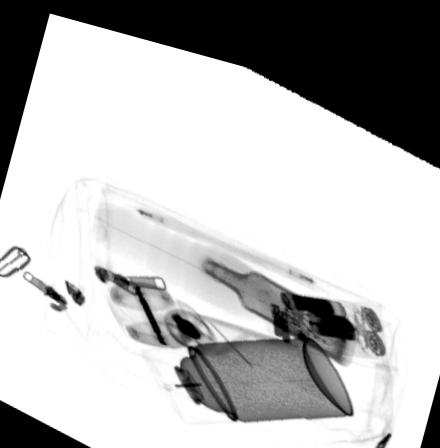Sprayer: (138, 319, 354, 416)
